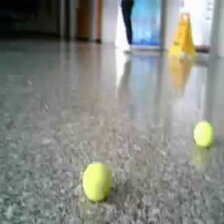tennis: (83, 163, 114, 201), (194, 121, 217, 148)
